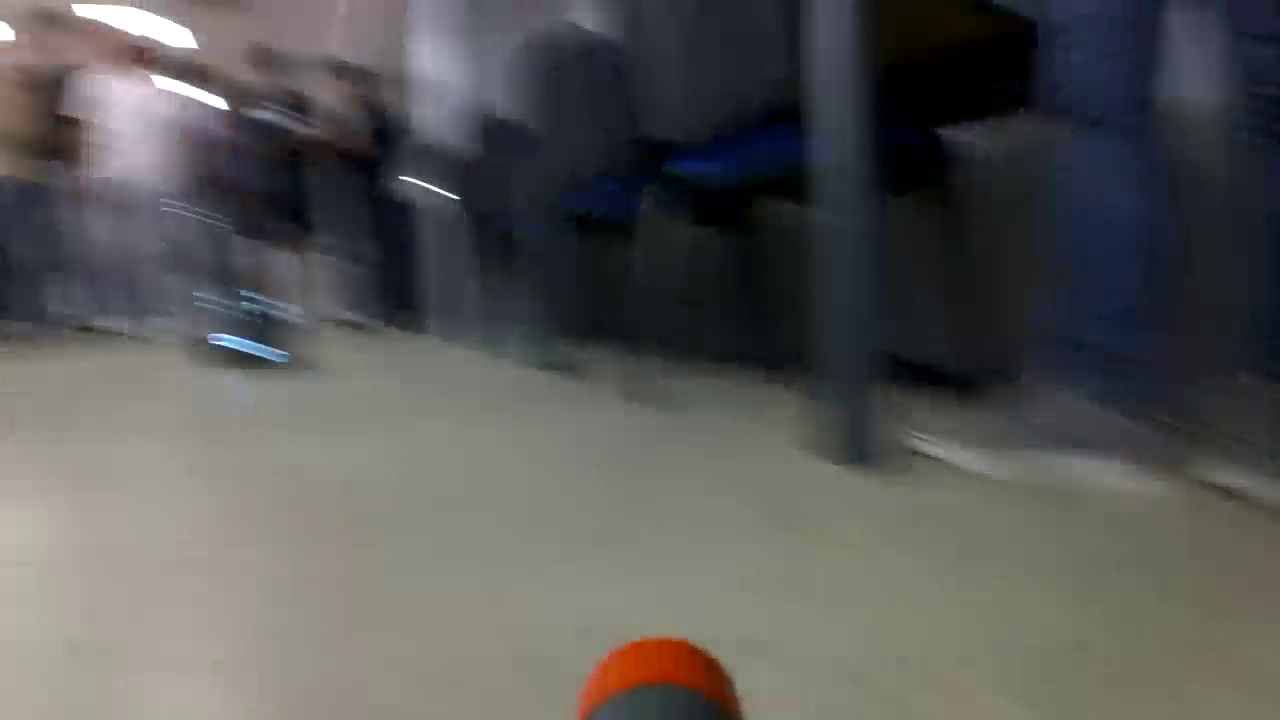robot: (197, 282, 292, 372)
